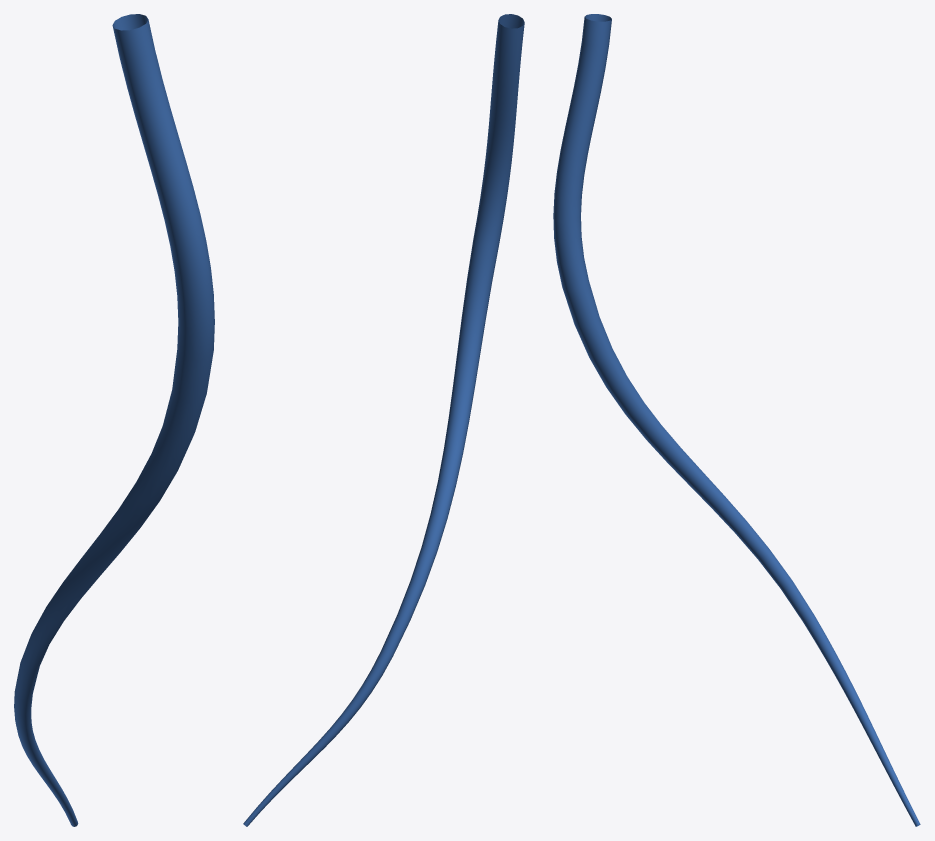
3 views of the same model, side by side, from view 1: azimuth 30°, elevation 25°; view 2: azimuth 150°, elevation 25°; view 3: azimuth 270°, elevation 25° (orthographic). The views are drawn at different scales.
Visible parts, largest first — view 1: 左侧眼下静脉; view 2: 左侧眼下静脉; view 3: 左侧眼下静脉.
Boxes of the visible parts, x1,y1,x2,y2 form: 左侧眼下静脉: (14, 14, 214, 826); 左侧眼下静脉: (243, 14, 524, 826); 左侧眼下静脉: (553, 14, 920, 826).
Size of the model in its own units: 0.00812 by 0.0444 by 0.0196.
